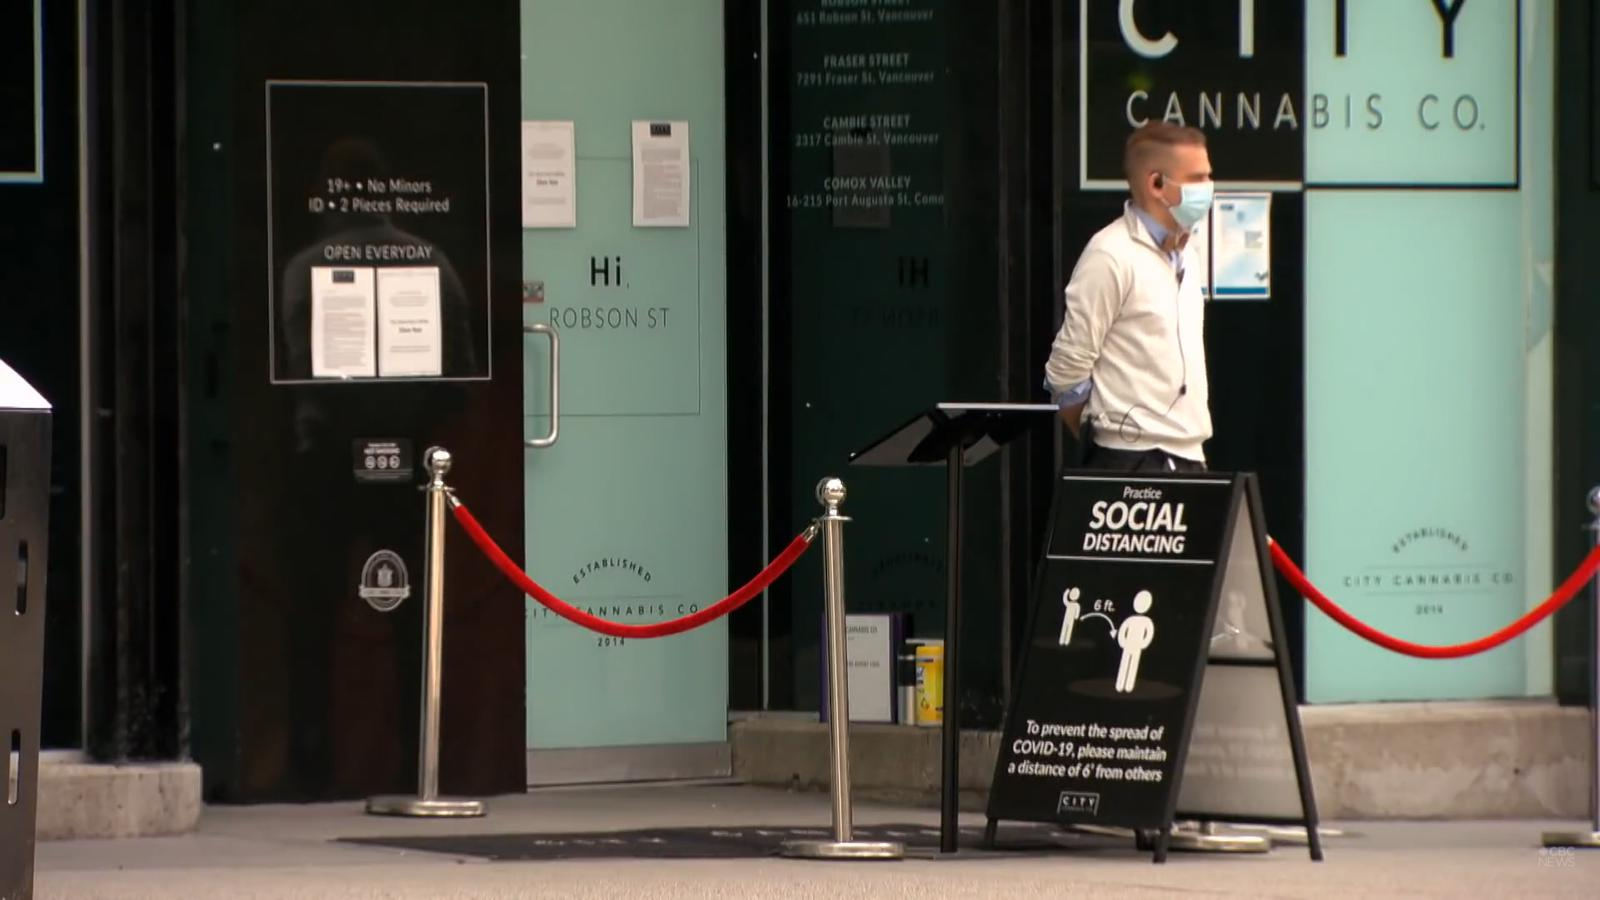with_mask: (1163, 161, 1208, 219)
